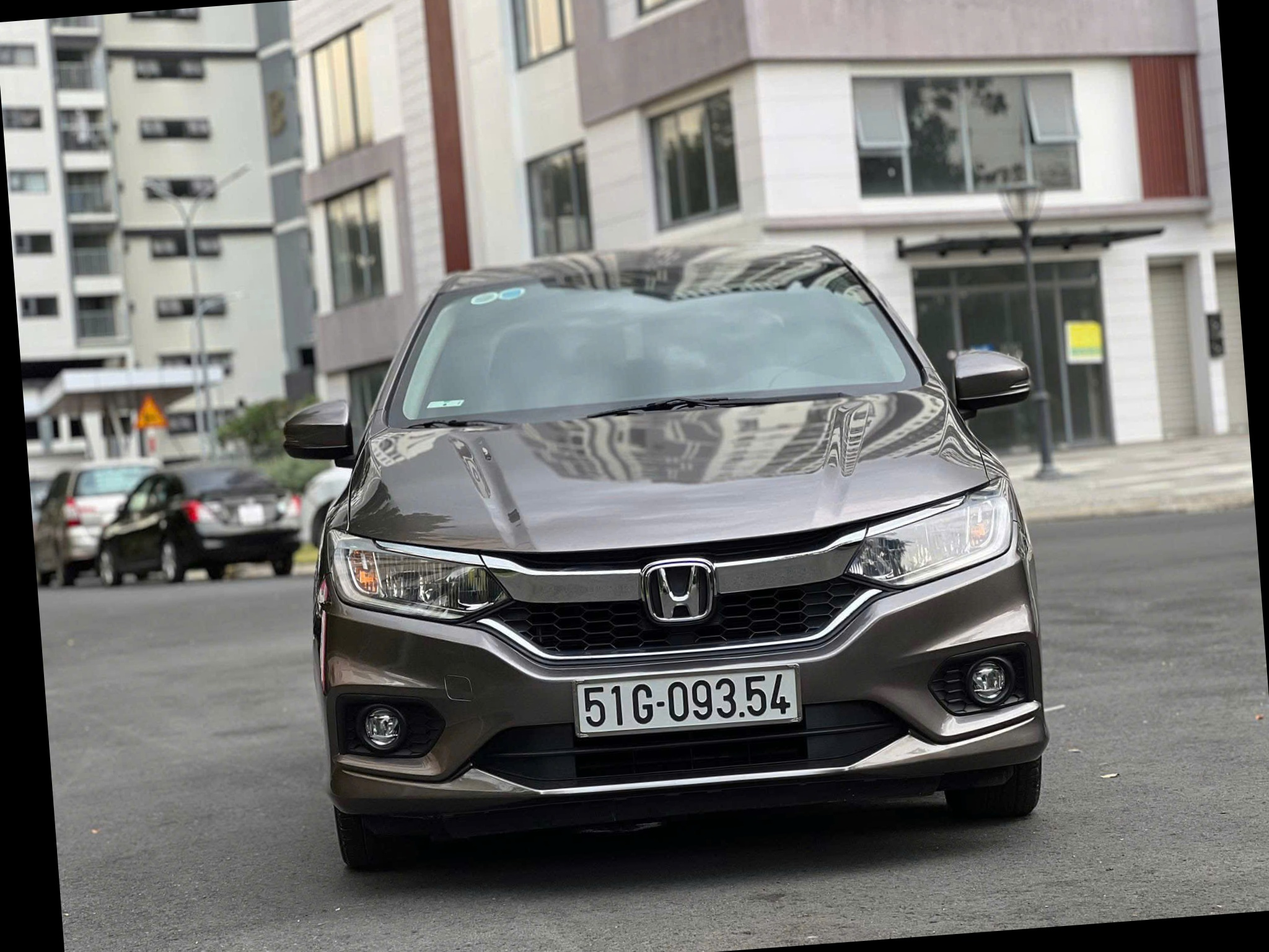Bien-so: (556, 673, 795, 754)
